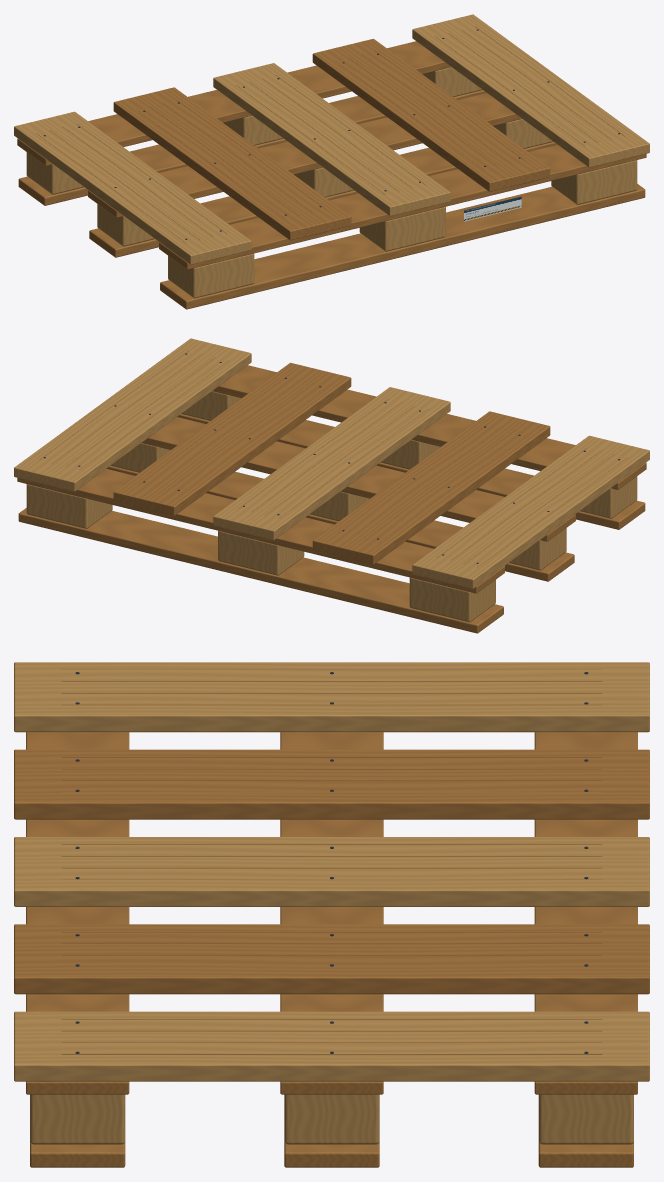
Rendered from pallet.glb.
3 views of the same model, one above another, from view 1: azimuth 30°, elevation 25°; view 2: azimuth 150°, elevation 25°; view 3: azimuth 270°, elevation 25° (orthographic). The views are drawn at different scales.
Parts seen in each view (by area): view 1: DeckBoard1, DeckBoard3, DeckBoard4, DeckBoard2, DeckBoard0, Runner0.32, CrossBoard0.32, CrossBoard0, CrossBoard-0.32, Runner-0.32, Runner0, SpacerBlock6 (+9 smaller); view 2: DeckBoard1, DeckBoard3, DeckBoard4, DeckBoard2, DeckBoard0, Runner-0.32, CrossBoard-0.32, CrossBoard0, CrossBoard0.32, Runner0.32, Runner0, SpacerBlock0 (+8 smaller); view 3: DeckBoard1, DeckBoard3, DeckBoard4, DeckBoard0, DeckBoard2, CrossBoard0, CrossBoard-0.32, CrossBoard0.32, SpacerBlock5, SpacerBlock2, SpacerBlock8, Runner-0.32 (+7 smaller).
Boxes of the visible parts, left/top/right/bottom form: DeckBoard1: left=113, top=87, right=351, bottom=240; DeckBoard3: left=312, top=38, right=550, bottom=191; DeckBoard4: left=412, top=14, right=649, bottom=167; DeckBoard2: left=213, top=63, right=450, bottom=216; DeckBoard0: left=14, top=111, right=251, bottom=264; Runner0.32: left=160, top=184, right=645, bottom=309; CrossBoard0.32: left=159, top=145, right=646, bottom=269; CrossBoard0: left=88, top=93, right=521, bottom=217; CrossBoard-0.32: left=17, top=41, right=451, bottom=165; Runner-0.32: left=18, top=90, right=486, bottom=205; Runner0: left=89, top=142, right=557, bottom=257; SpacerBlock6: left=168, top=253, right=254, bottom=298; DeckBoard1: left=312, top=411, right=550, bottom=564; DeckBoard3: left=113, top=362, right=351, bottom=515; DeckBoard4: left=14, top=338, right=251, bottom=491; DeckBoard2: left=213, top=387, right=450, bottom=540; DeckBoard0: left=412, top=435, right=649, bottom=588; Runner-0.32: left=18, top=508, right=503, bottom=633; CrossBoard-0.32: left=17, top=469, right=504, bottom=593; CrossBoard0: left=142, top=417, right=575, bottom=541; CrossBoard0.32: left=212, top=365, right=646, bottom=489; Runner0.32: left=177, top=414, right=645, bottom=529; Runner0: left=106, top=466, right=574, bottom=581; SpacerBlock0: left=409, top=577, right=495, bottom=622; DeckBoard1: left=14, top=749, right=649, bottom=819; DeckBoard3: left=14, top=924, right=649, bottom=994; DeckBoard4: left=14, top=1011, right=649, bottom=1081; DeckBoard0: left=14, top=662, right=649, bottom=732; DeckBoard2: left=14, top=837, right=649, bottom=906; CrossBoard0: left=280, top=732, right=383, bottom=1094; CrossBoard-0.32: left=534, top=732, right=637, bottom=1094; CrossBoard0.32: left=26, top=732, right=129, bottom=1094; SpacerBlock5: left=284, top=1094, right=379, bottom=1144; SpacerBlock2: left=538, top=1094, right=633, bottom=1144; SpacerBlock8: left=30, top=1094, right=125, bottom=1144; Runner-0.32: left=538, top=1141, right=633, bottom=1167.
Bounding box in the file's own units: 1.2 × 0.1448 × 0.8.
4 materials, 3 textured.
